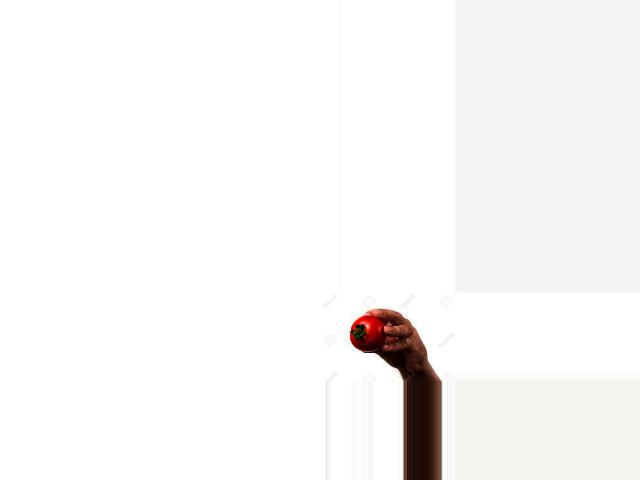tomato: (349, 316, 385, 352)
